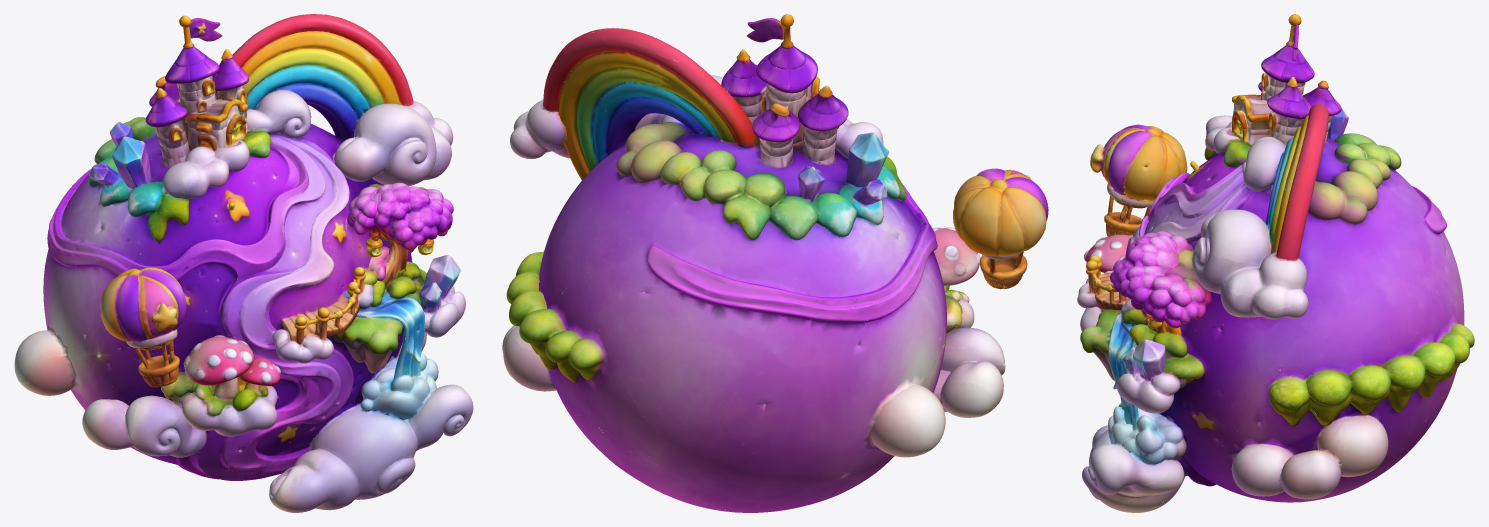
The model's file is planeta.glb.
3 views of the same model, side by side, from view 1: azimuth 30°, elevation 25°; view 2: azimuth 150°, elevation 25°; view 3: azimuth 270°, elevation 25° (orthographic). The views are drawn at different scales.
Parts seen in each view (by area): view 1: SM_Planeta; view 2: SM_Planeta; view 3: SM_Planeta.
Boxes of the visible parts, box(x1,y1,x2,y2) form: SM_Planeta: box(14, 14, 473, 512); SM_Planeta: box(502, 14, 1048, 512); SM_Planeta: box(1077, 14, 1474, 512).
Bounding box in the file's own units: 2.48 × 2.58 × 2.07.
Materials: 1 (1 with a texture image).
